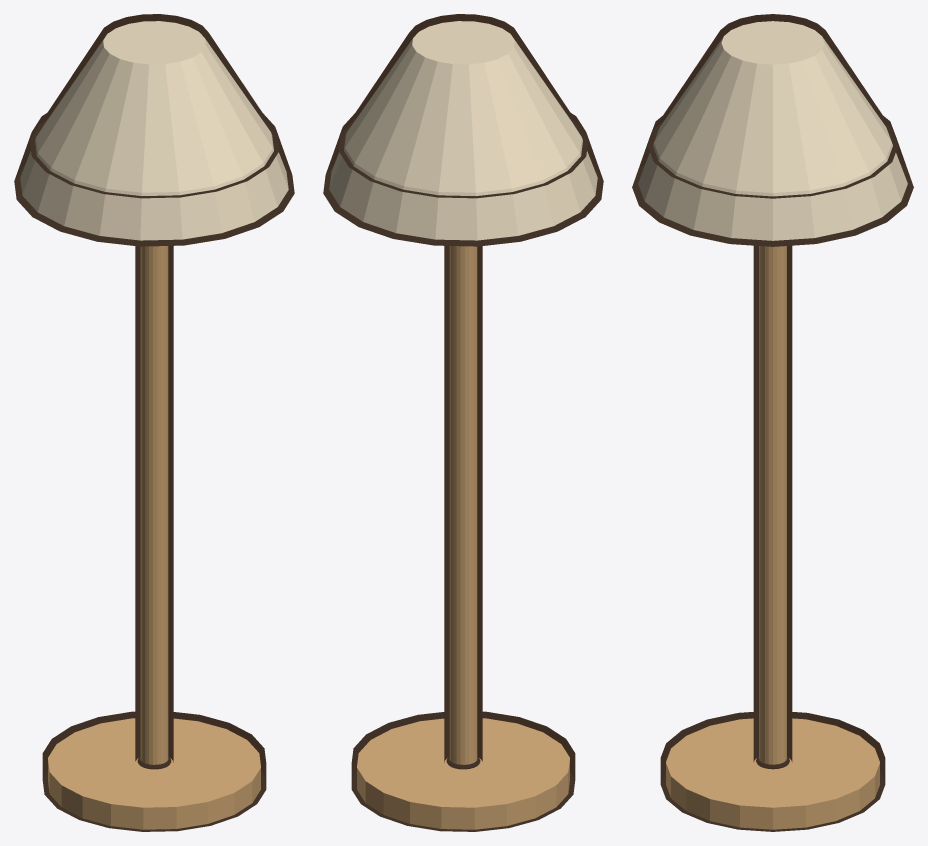
File: botanic-lamp.glb
3 views of the same model, side by side, from view 1: azimuth 30°, elevation 25°; view 2: azimuth 150°, elevation 25°; view 3: azimuth 270°, elevation 25° (orthographic).
Parts seen in each view (by area): view 1: botanic-lamp.002, botanic-lamp-outline.002; view 2: botanic-lamp.002, botanic-lamp-outline.002; view 3: botanic-lamp.002, botanic-lamp-outline.002.
Boxes of the visible parts, x1,y1,x2,y2 form: botanic-lamp.002: [20, 21, 288, 829]; botanic-lamp-outline.002: [14, 14, 294, 831]; botanic-lamp.002: [329, 21, 597, 829]; botanic-lamp-outline.002: [323, 14, 603, 831]; botanic-lamp.002: [638, 21, 907, 829]; botanic-lamp-outline.002: [632, 14, 913, 831].
Bounding box in the file's own units: 0.7102 × 2.08 × 0.7102.
